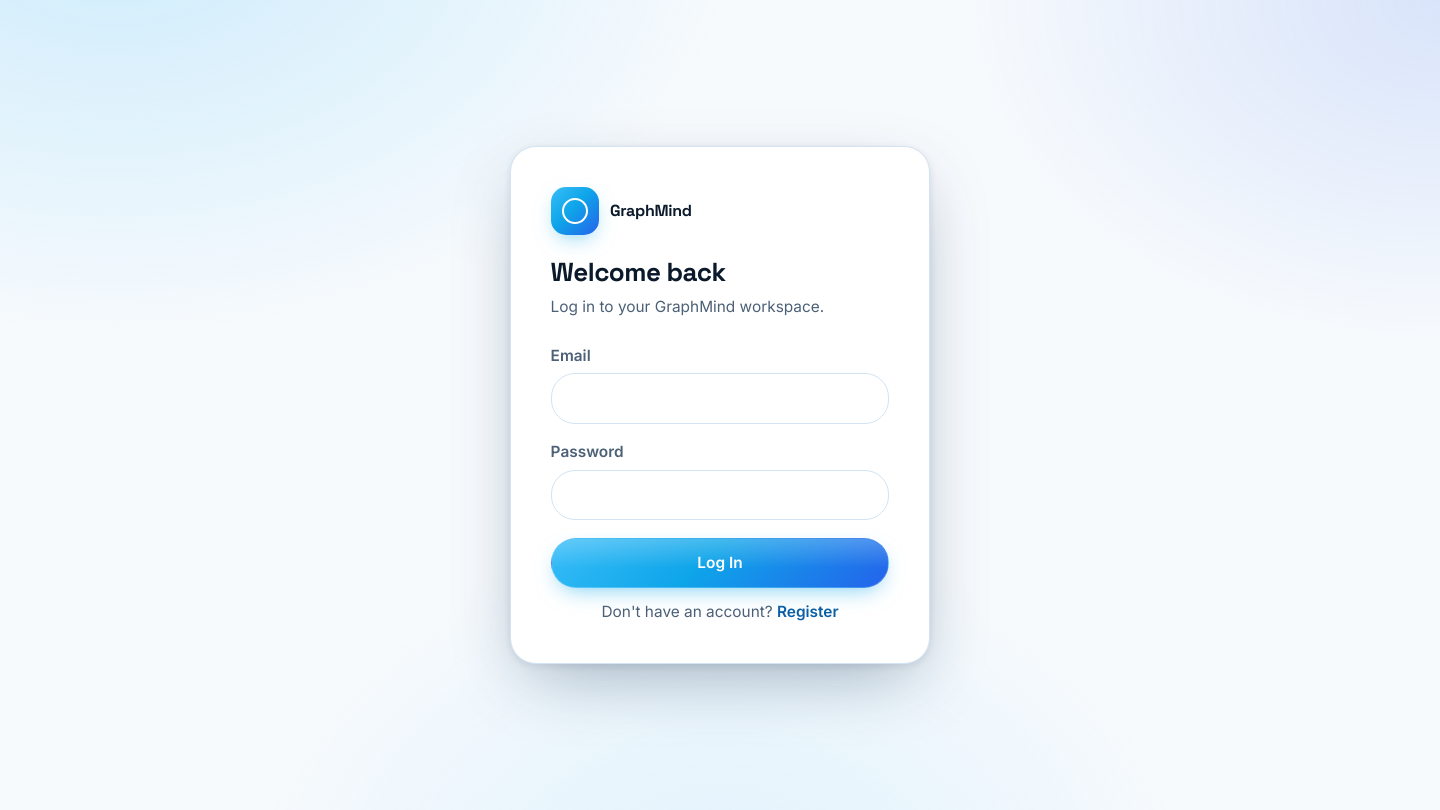
Test: LoginPage email-verification gate (Story 1.6) › confirms inline once the resend action is used
In the field labelled "Email": point(720, 398) [551,373,889,424], type "maria@example.com"
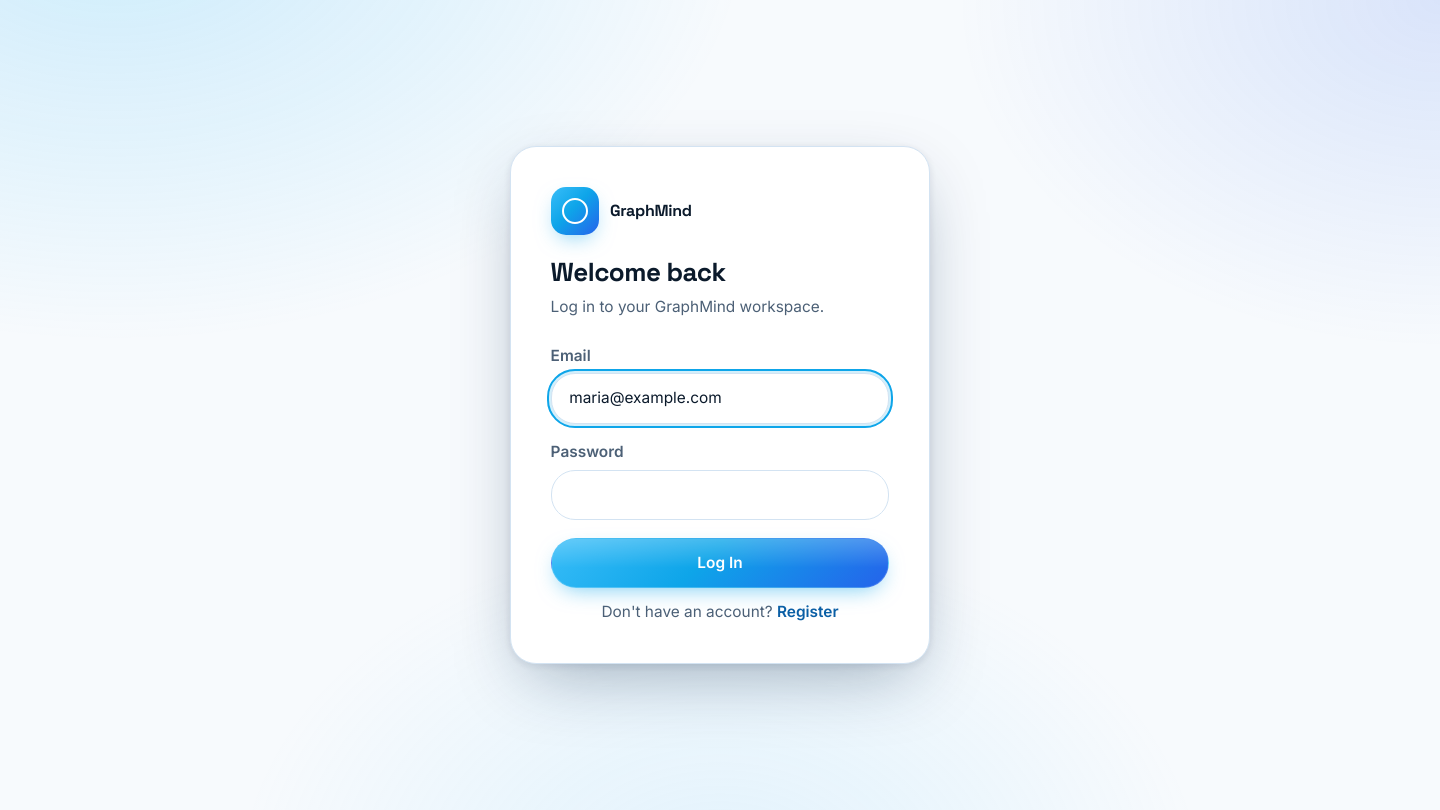
In the password field labelled "Password": point(720, 495) [551,470,889,520], type "correct horse battery staple"
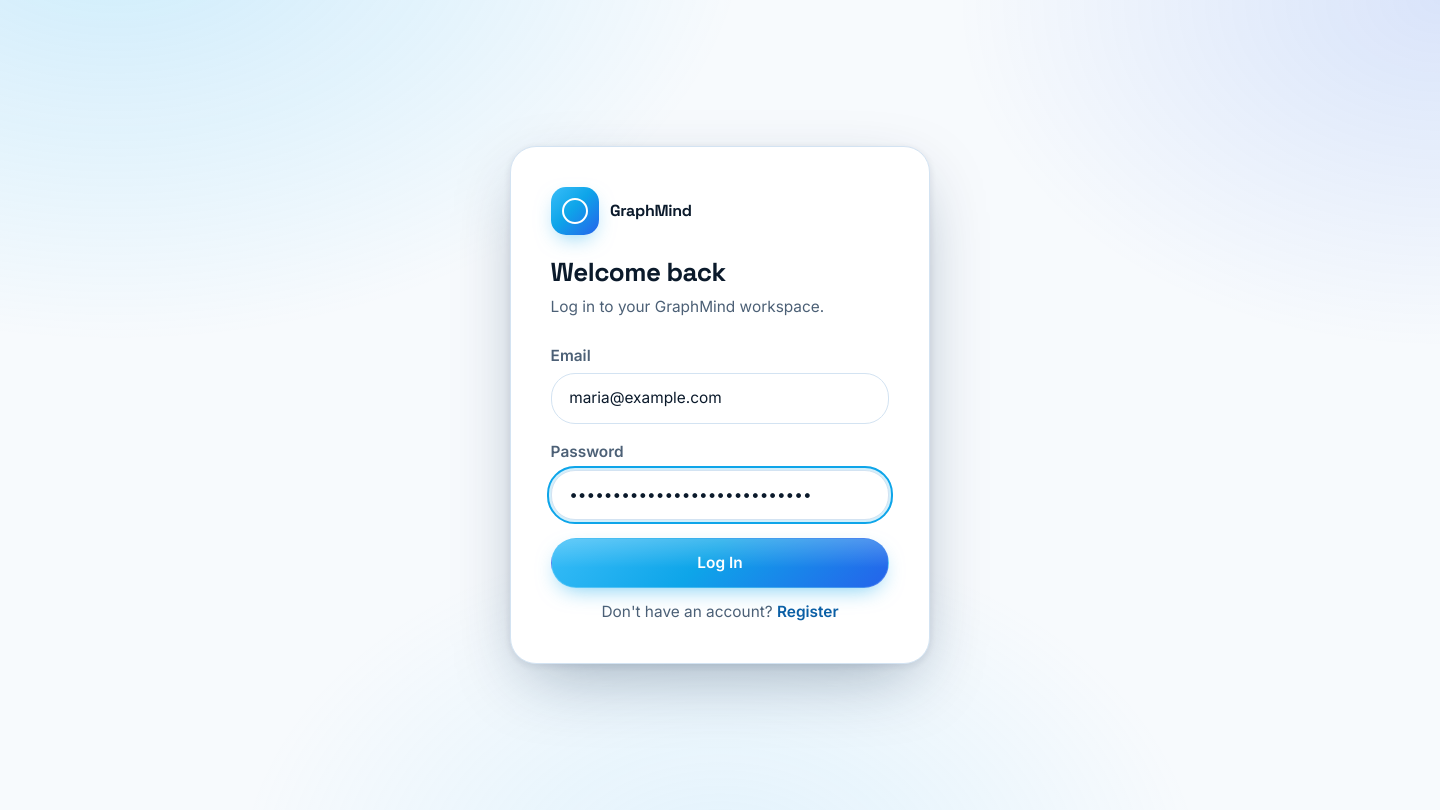
Click the button "Log In": point(720, 563) [551,538,889,588]
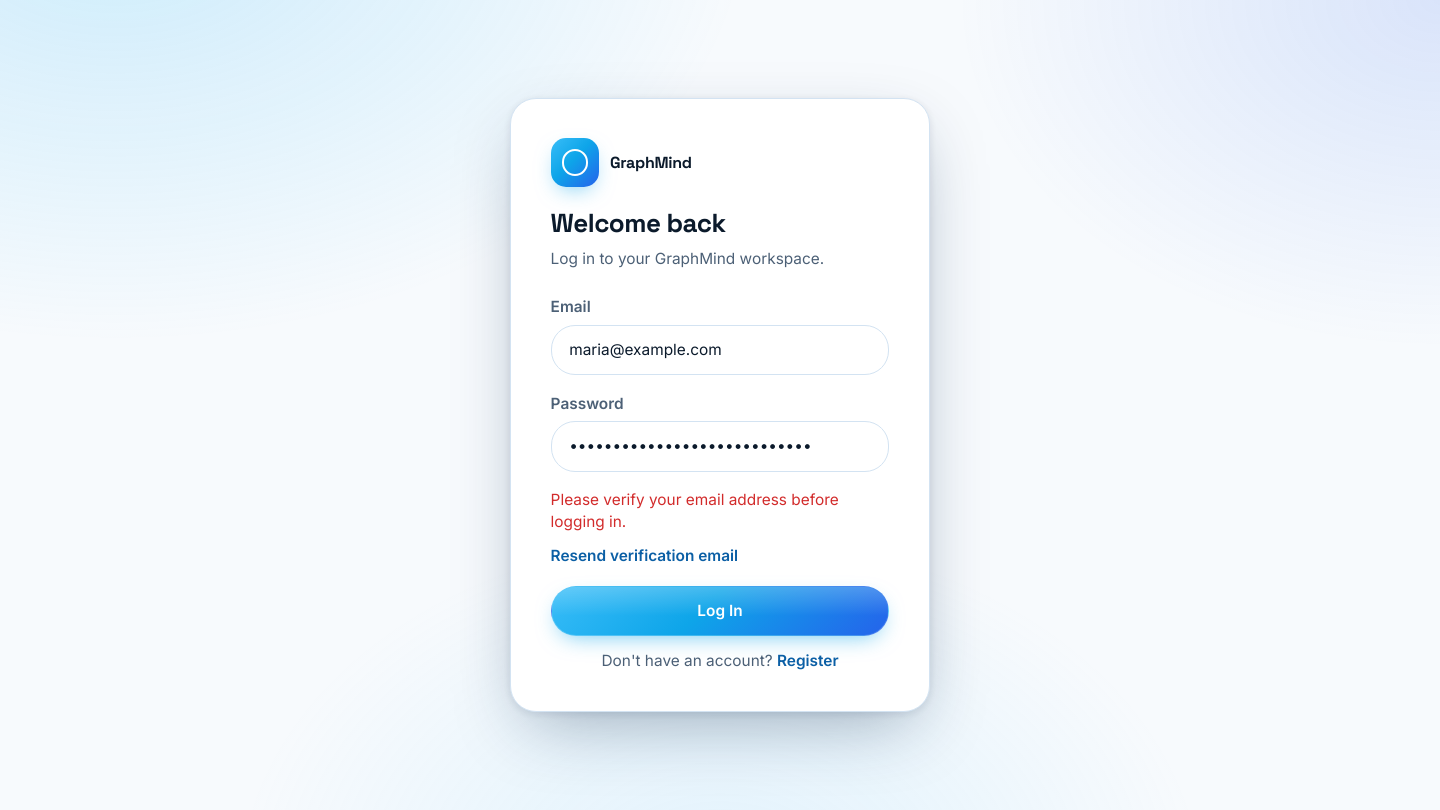
Click the button "Resend verification email": point(644, 556) [551,545,738,567]
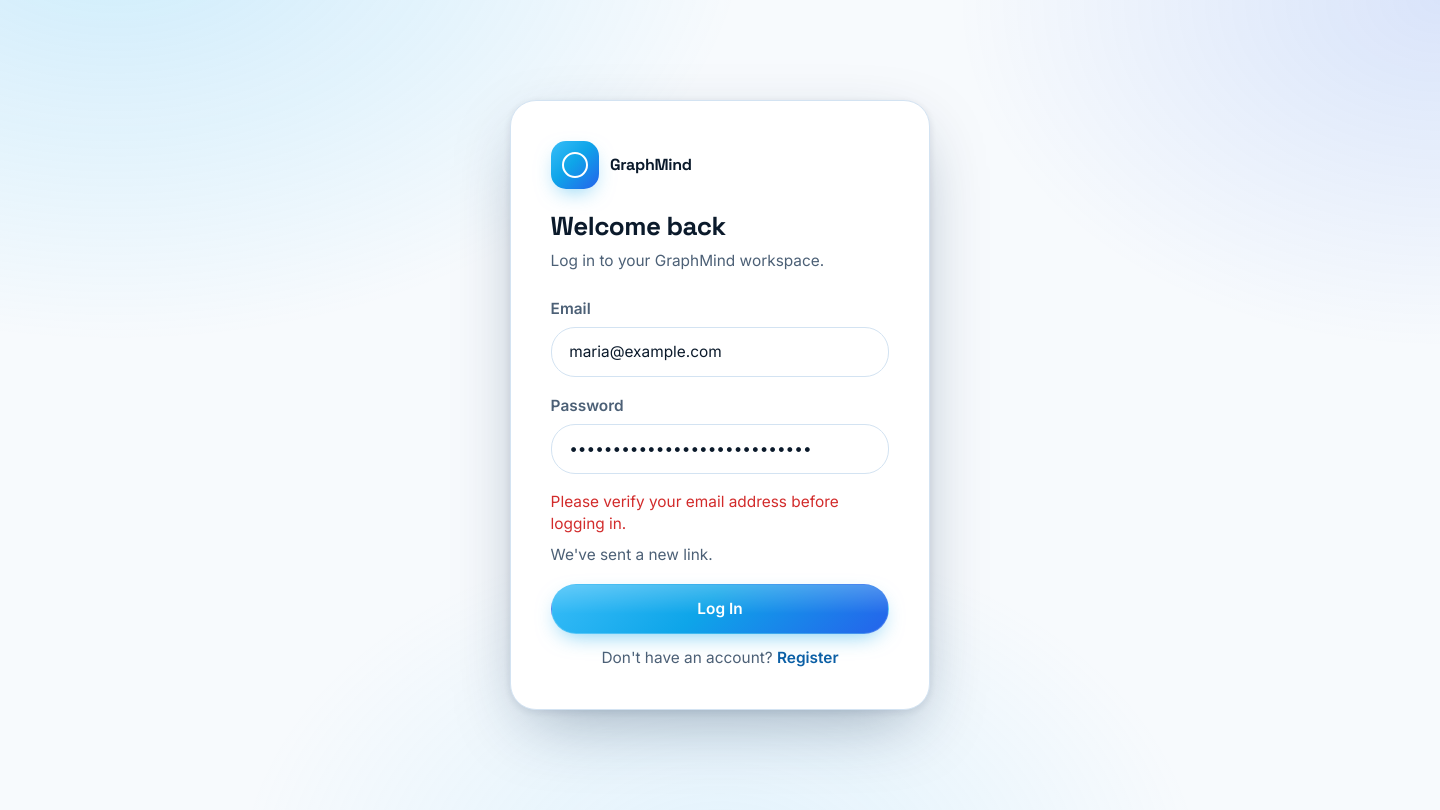
Expected: the text "We've sent a new link." is shown, [551,545,713,564]
